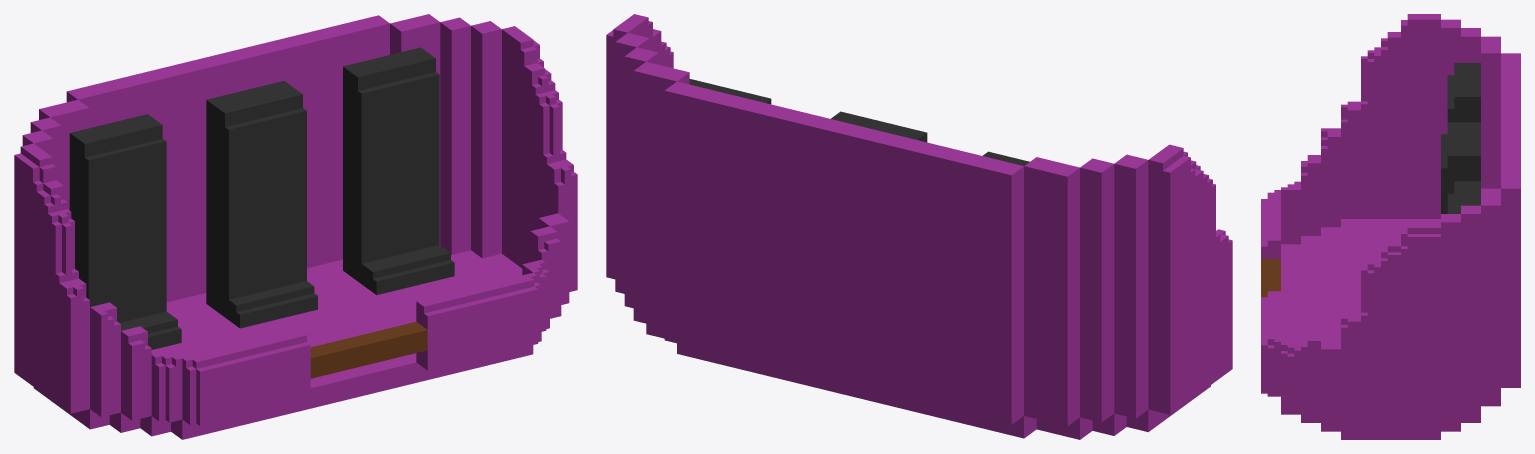
File: fast_fall-0.obj
3 renders of one model, left to right at view 1: azimuth 30°, elevation 25°; view 2: azimuth 150°, elevation 25°; view 3: azimuth 270°, elevation 25°, orthographic. The views are drawn at different scales.
Bounding box in the file's own units: 7.8 × 3.6 × 3.9.
